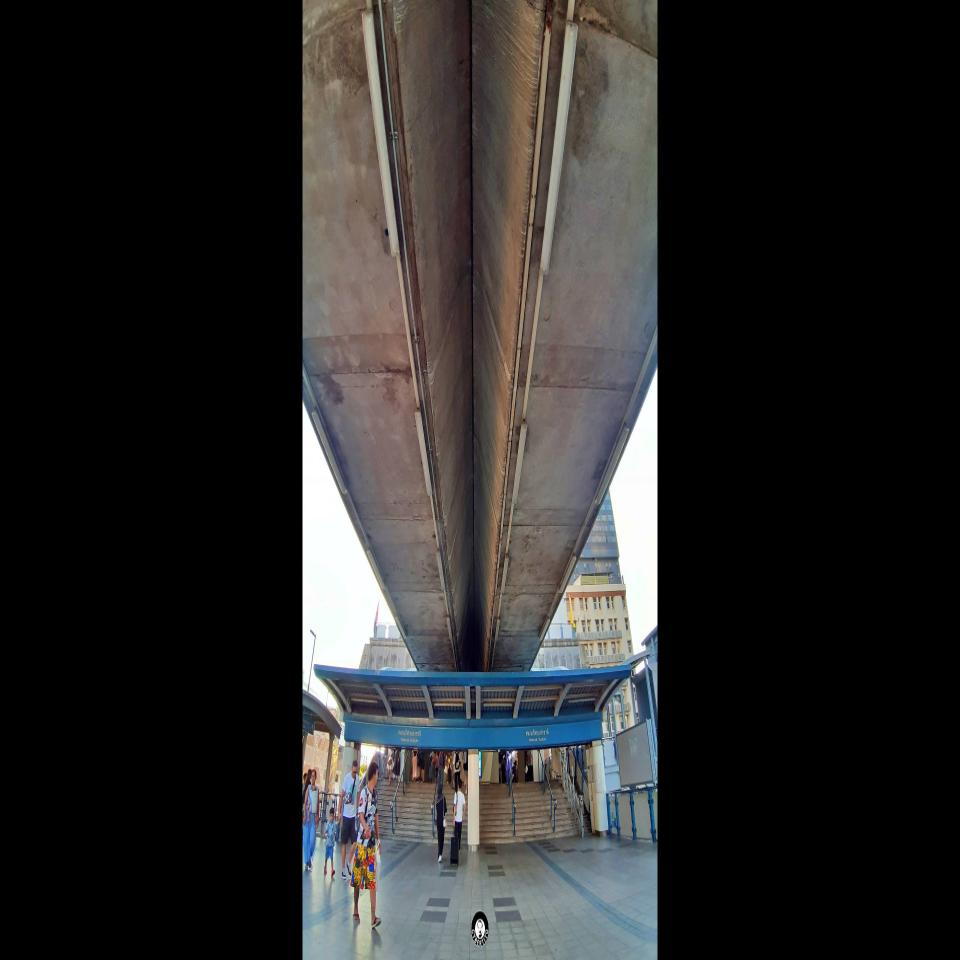signage: (399, 728, 421, 744), (526, 728, 549, 742)
